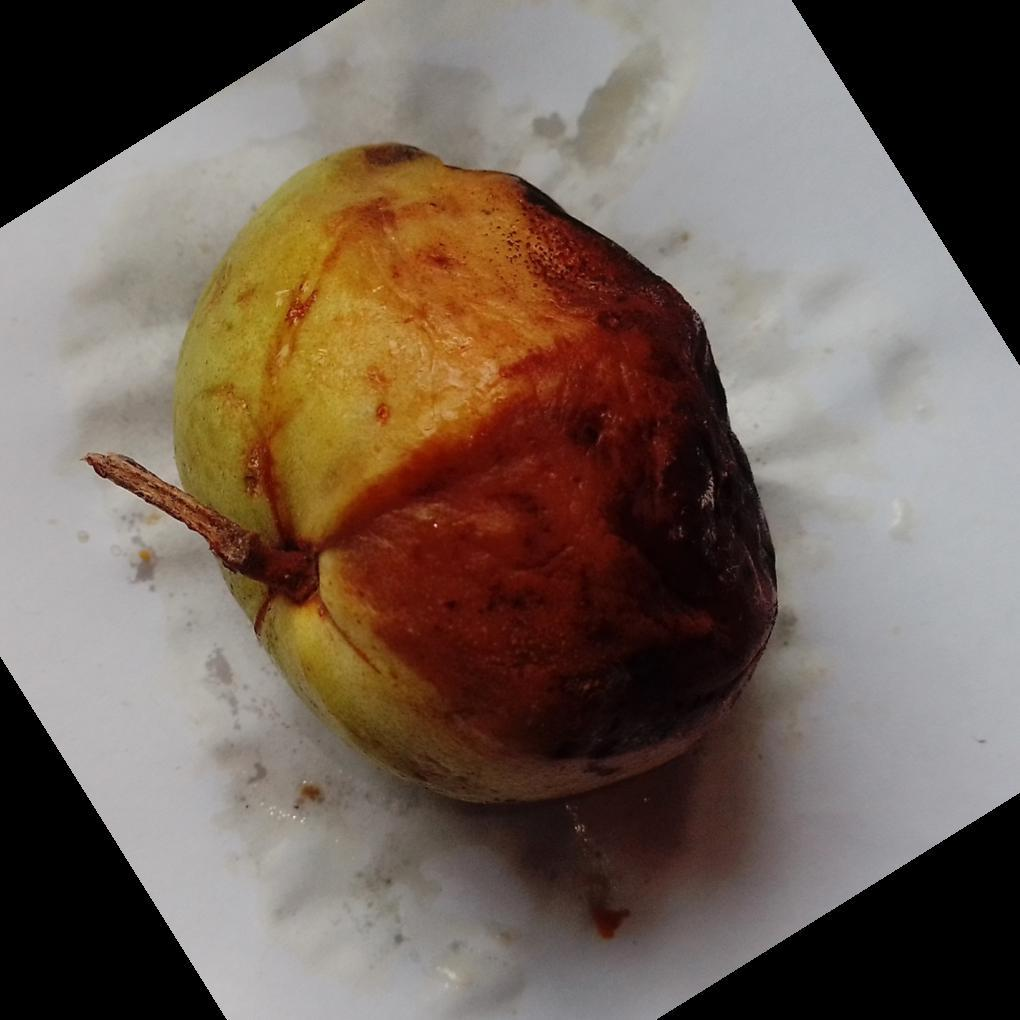FreshOrange: (85, 144, 780, 810)
